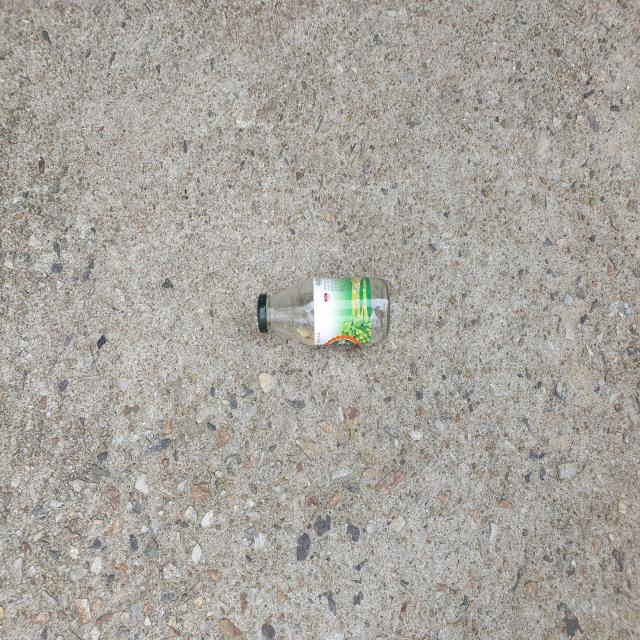glass: (258, 277, 390, 345)
